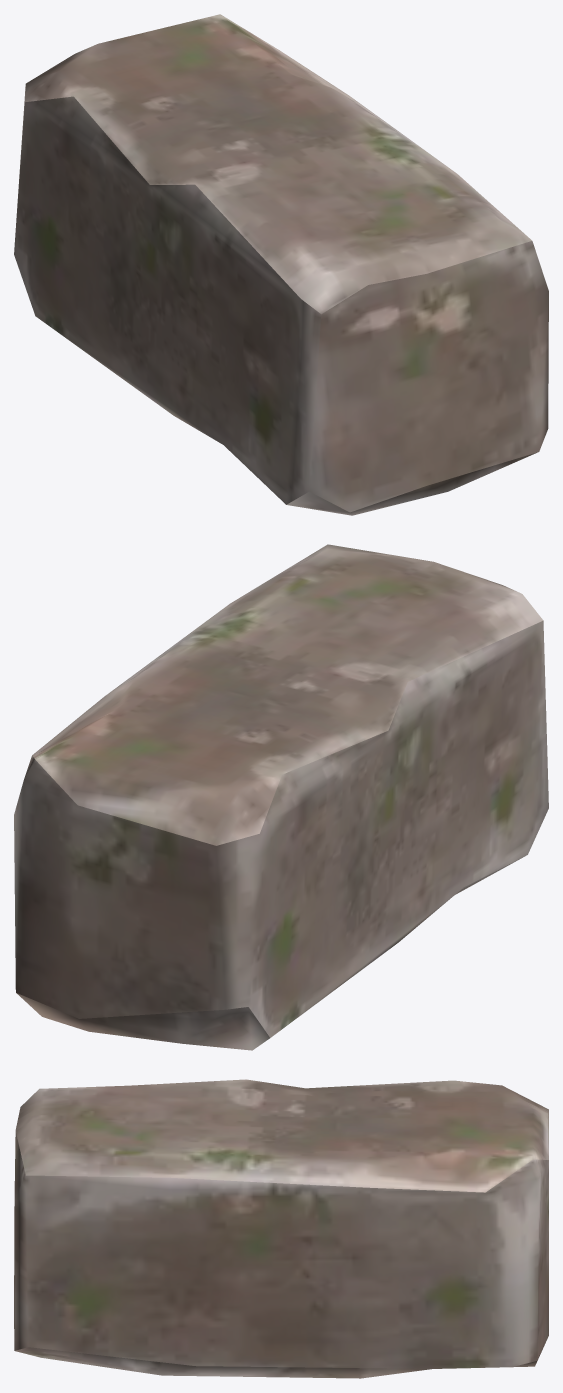
3 views of the same model, one above another, from view 1: azimuth 30°, elevation 25°; view 2: azimuth 150°, elevation 25°; view 3: azimuth 270°, elevation 25° (orthographic). The views are drawn at different scales.
Parts seen in each view (by area): view 1: SM_River_Bridge_Unique_Bricks_07_LOD0; view 2: SM_River_Bridge_Unique_Bricks_07_LOD0; view 3: SM_River_Bridge_Unique_Bricks_07_LOD0.
Boxes of the visible parts, x1,y1,x2,y2 form: SM_River_Bridge_Unique_Bricks_07_LOD0: (14, 14, 548, 515); SM_River_Bridge_Unique_Bricks_07_LOD0: (14, 544, 548, 1050); SM_River_Bridge_Unique_Bricks_07_LOD0: (14, 1079, 548, 1378).
Bounding box in the file's own units: 0.2759 × 0.2753 × 0.6311.
1 material, 1 textured.
